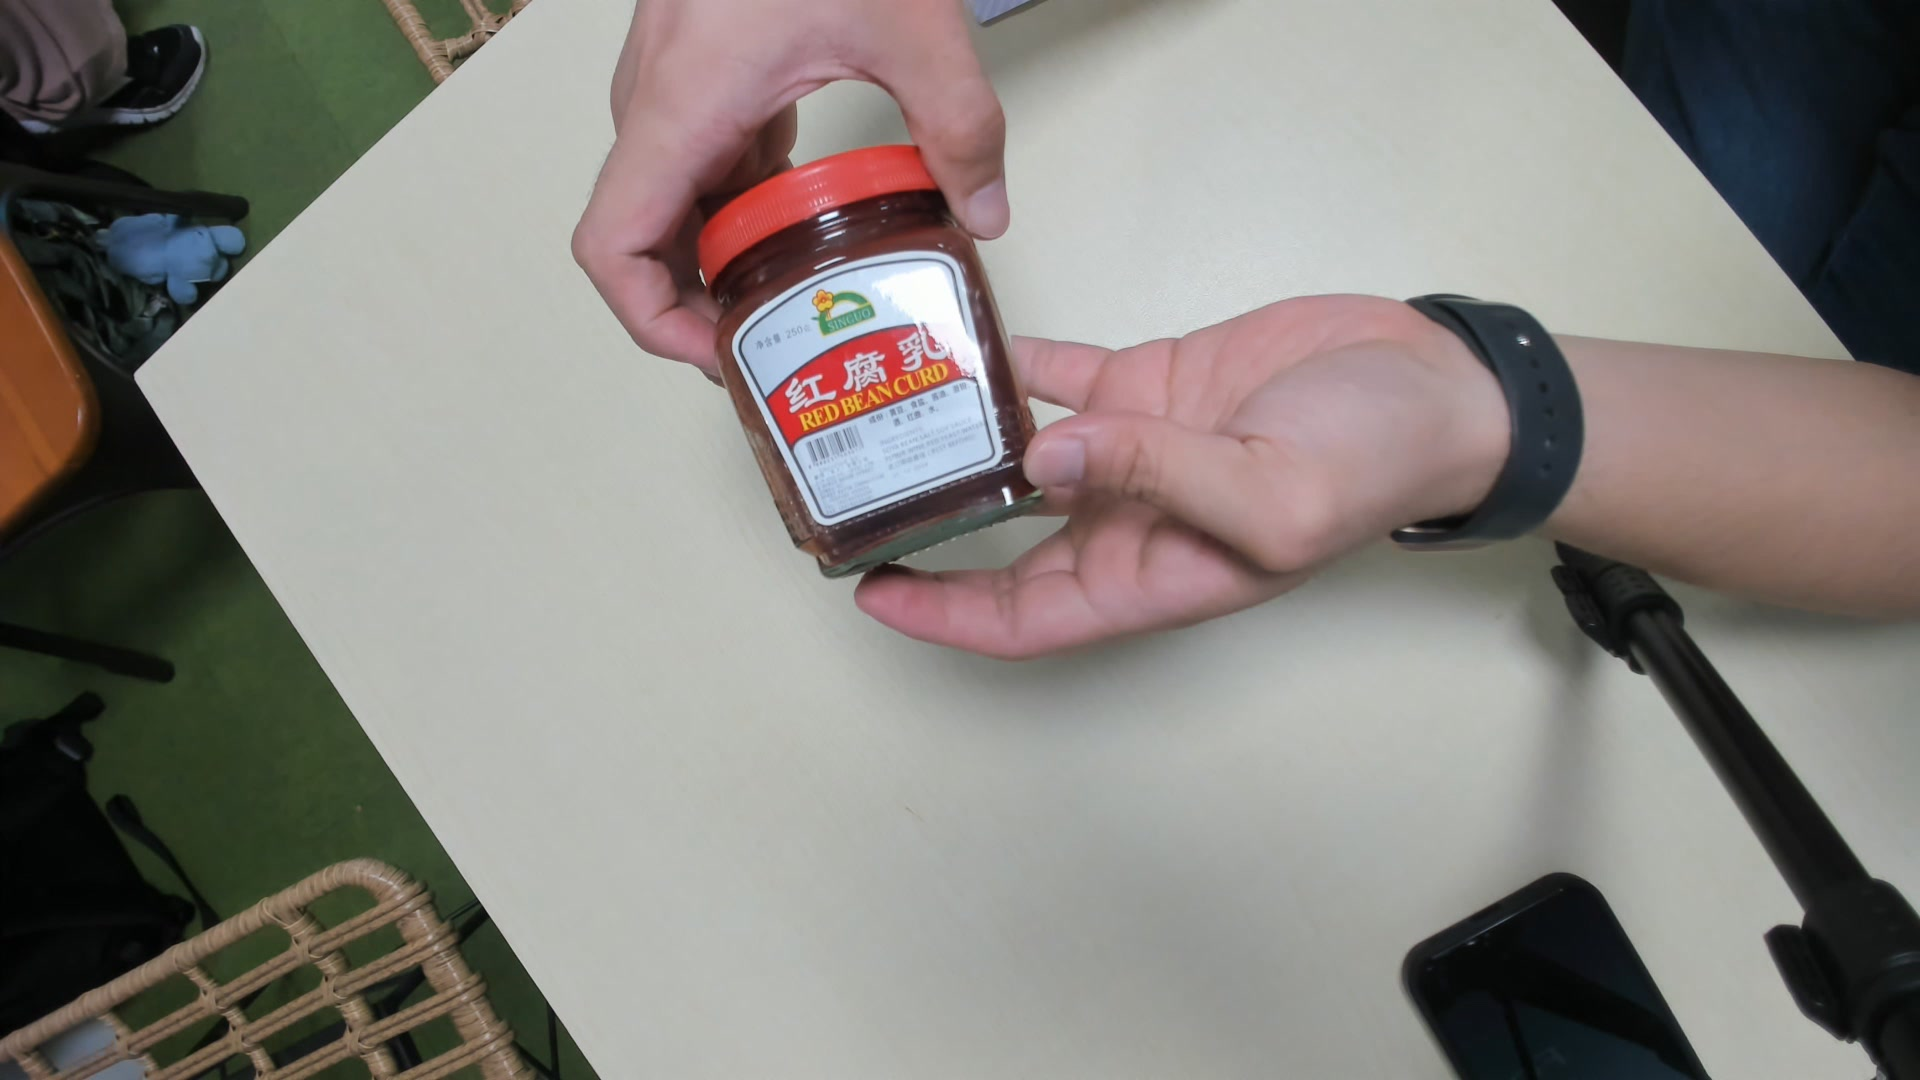OtherSauceDressing_200-299g_NonHalal_NonHealthy: (699, 140, 1048, 575)
